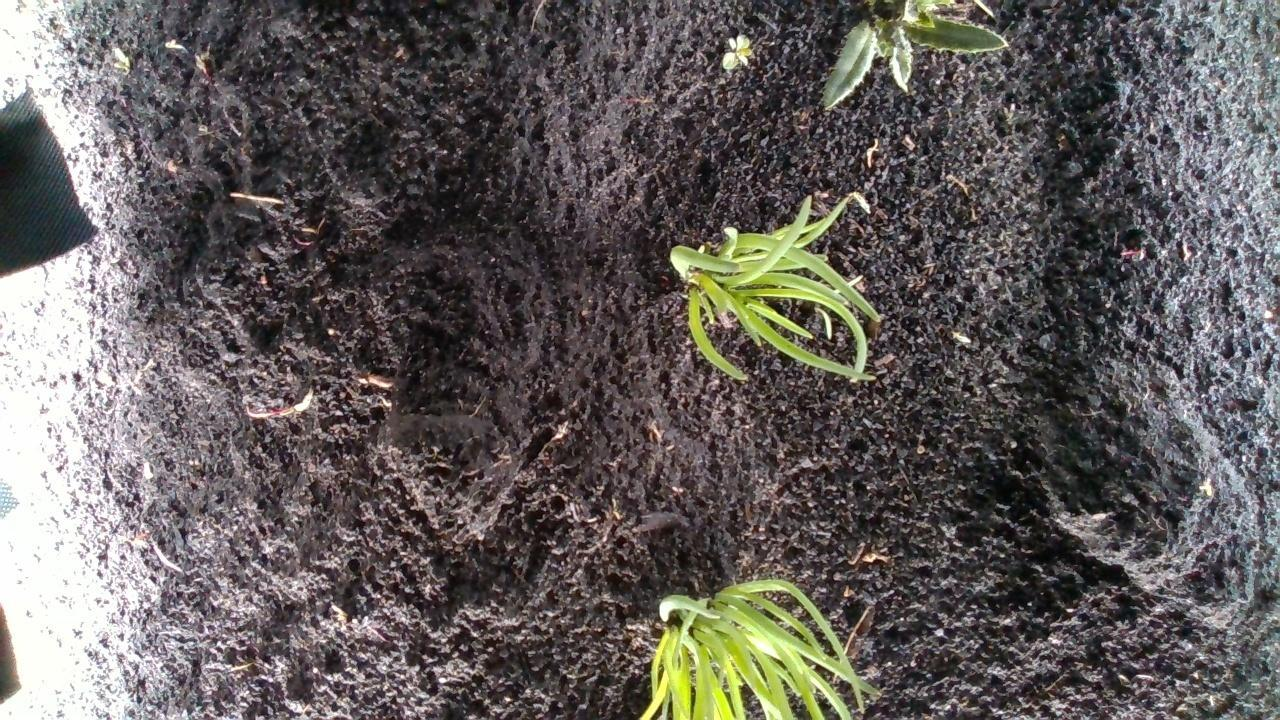weed: (721, 31, 751, 76)
